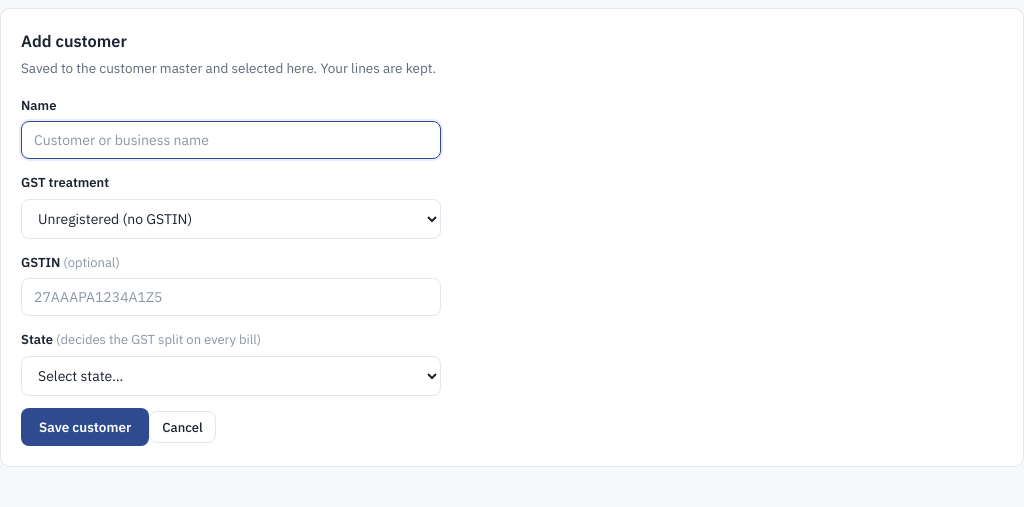
Test: <QuickAddCustomer> › blocks submit with no name
Step 1. Select "09 — Uttar Pradesh" in the dropdown labelled "State (decides the GST split on every bill)" → point(231, 376), box [21,356,441,396]
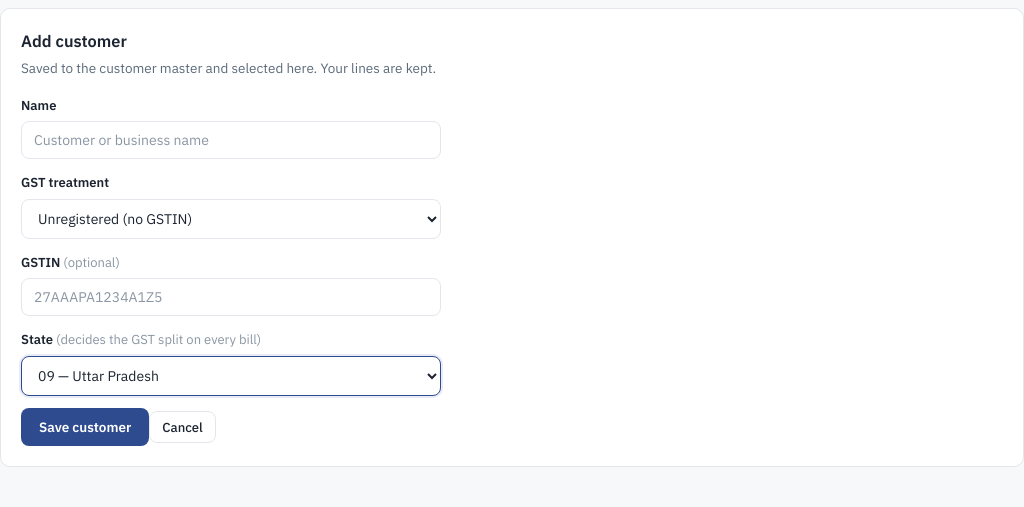
Step 2. Click the button "Save customer" → point(85, 427), box [21,408,149,446]
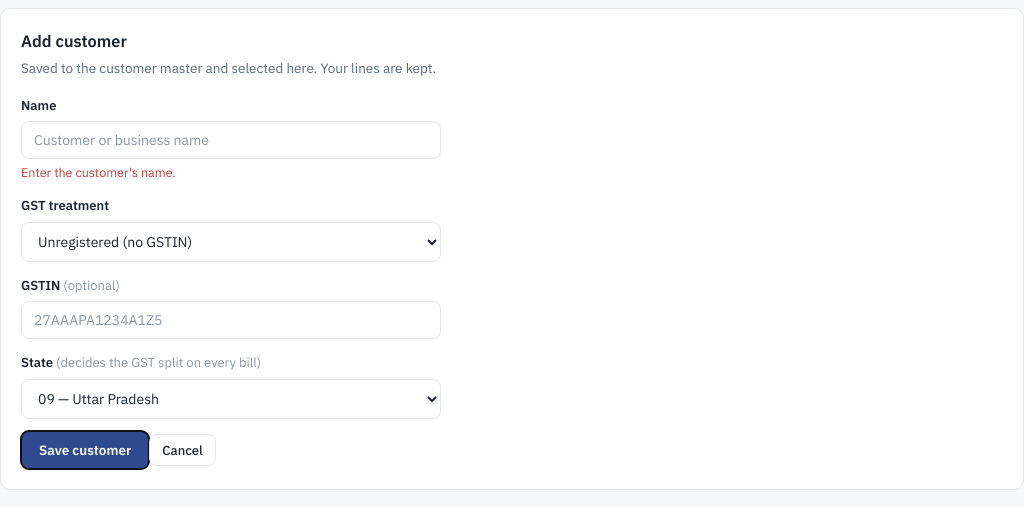
Check: the text "Enter the customer's name." is shown, box [21,164,176,180]
